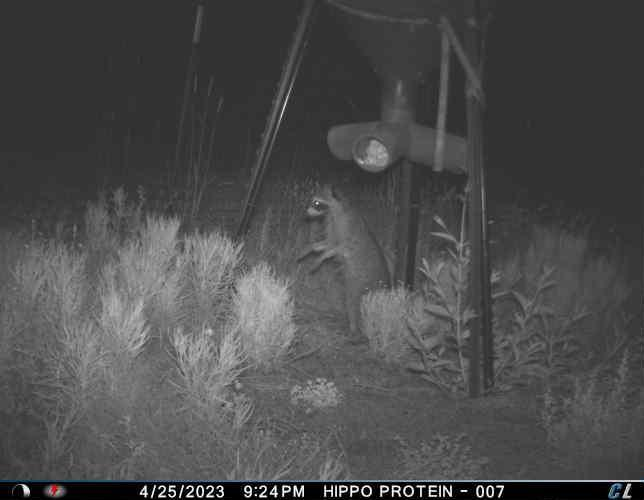Raccoon: (294, 177, 396, 342)
